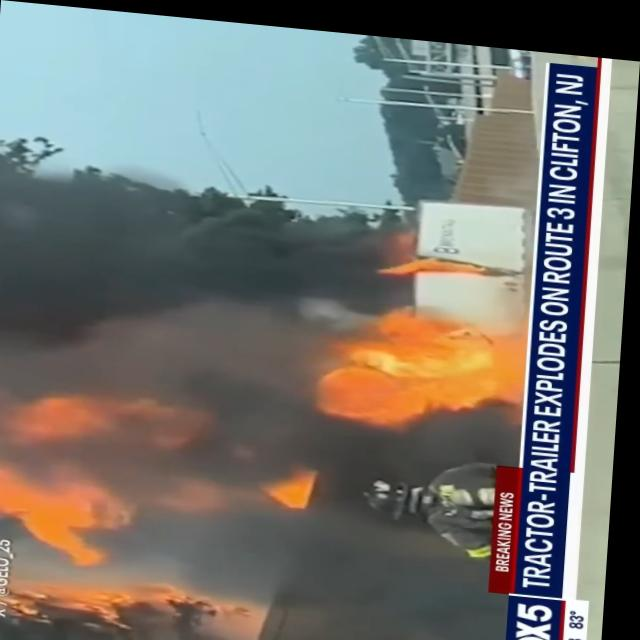Fire: (344, 301, 533, 418), (0, 448, 147, 561), (3, 564, 204, 632), (266, 463, 319, 503)
